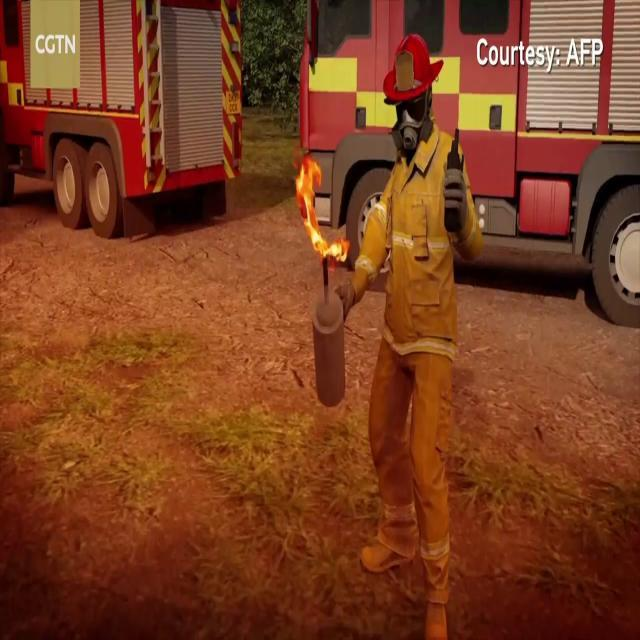Fire: (294, 152, 346, 260)
